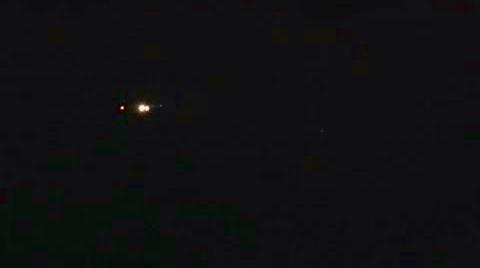Plane: (88, 79, 187, 132)
